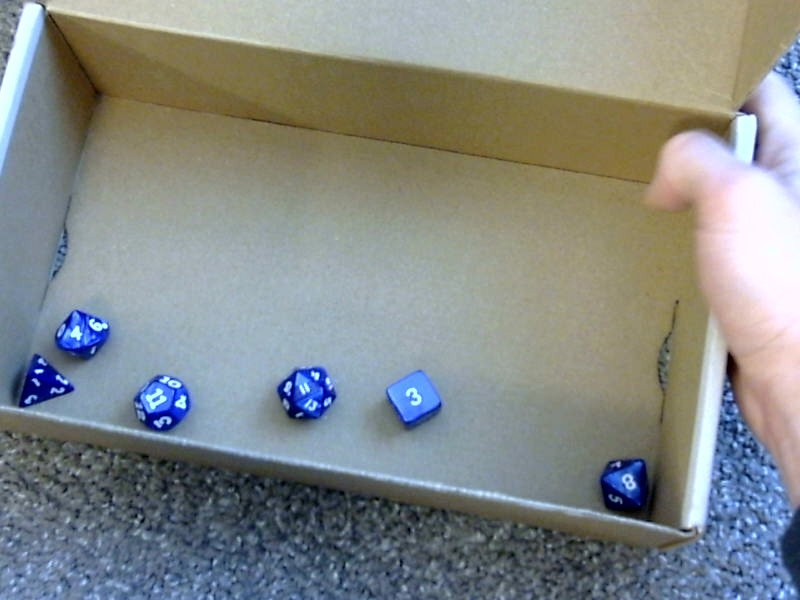d10 4: (53, 305, 114, 362)
d12 11: (128, 367, 198, 435)
d20 11: (272, 356, 337, 423)
d4 1: (10, 353, 77, 411)
d6 3: (379, 361, 450, 436)
d8 8: (597, 446, 654, 518)
